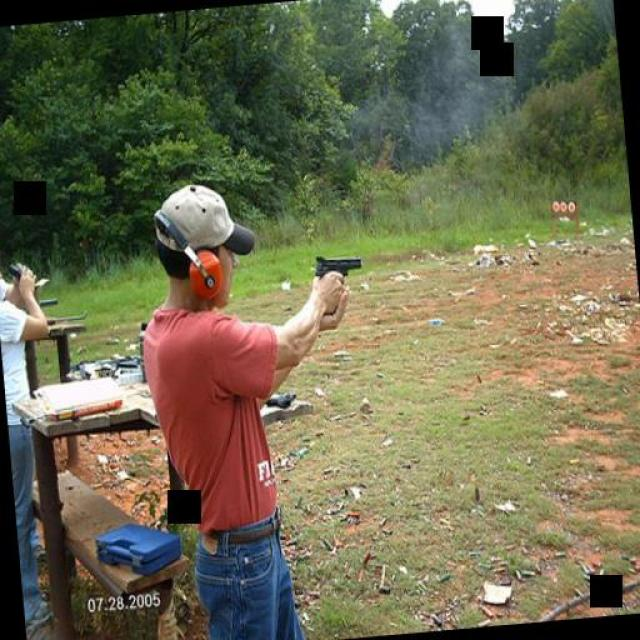gun: (311, 248, 365, 314)
